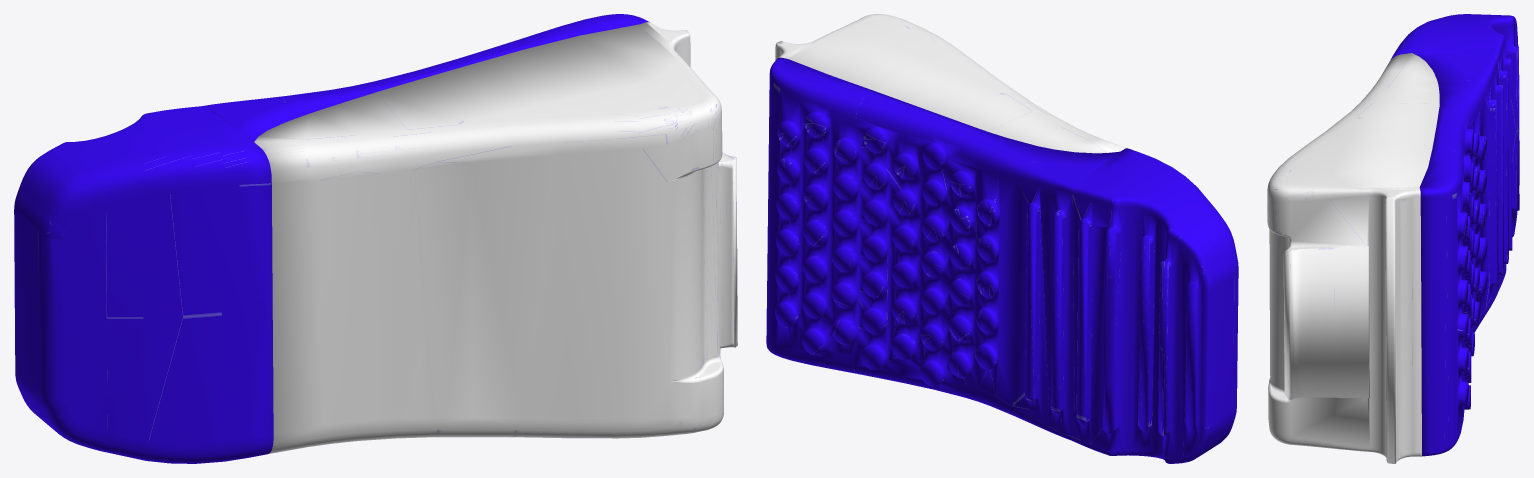
File: right_finger_dist_link.dae
3 renders of one model, left to right at view 1: azimuth 30°, elevation 25°; view 2: azimuth 150°, elevation 25°; view 3: azimuth 270°, elevation 25°, orthographic. The views are drawn at different scales.
Visible parts, largest first — view 1: right_finger_dist_link; view 2: right_finger_dist_link; view 3: right_finger_dist_link.
Boxes of the visible parts, bbox=[...] form: right_finger_dist_link: bbox=[14, 14, 737, 463]; right_finger_dist_link: bbox=[766, 14, 1238, 463]; right_finger_dist_link: bbox=[1267, 14, 1519, 463].
Bounding box in the file's own units: 0.0437 × 0.0204 × 0.0236.
Materials: 1 (1 with a texture image).
